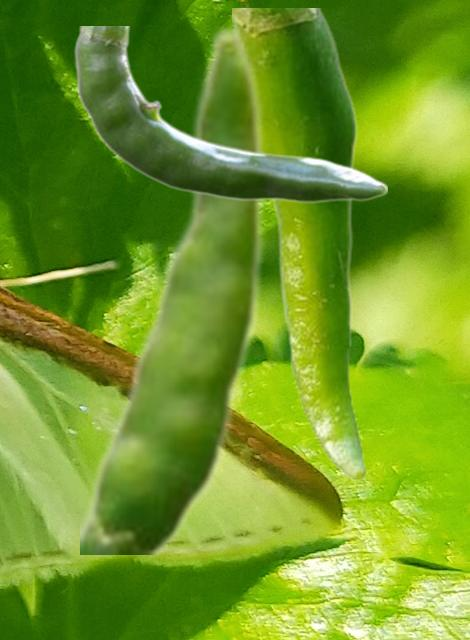green_chili: (80, 24, 266, 553), (232, 8, 364, 479), (74, 26, 386, 202)
